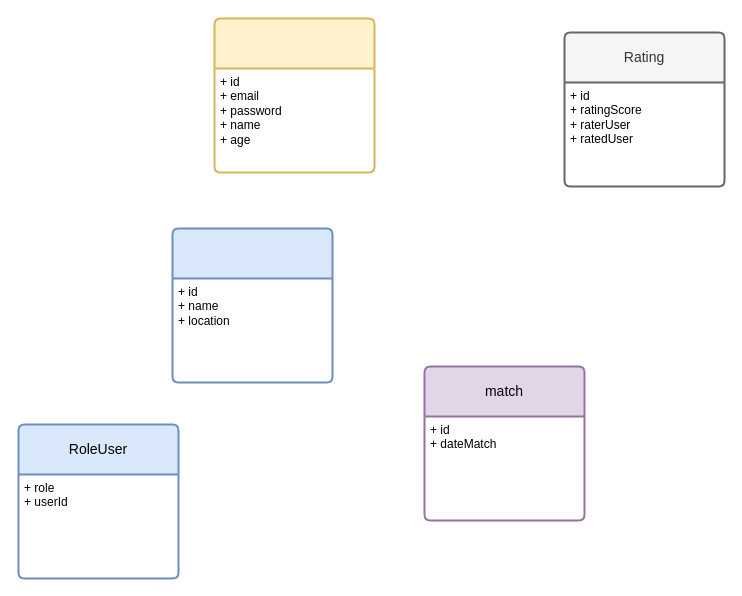
Image size: 742x596. Some labels were removed from this diagram. Here are the shapes that lost their labels. From the top down, the box of each, then its label:
(213, 17, 375, 173): User
(171, 227, 333, 383): Organization
